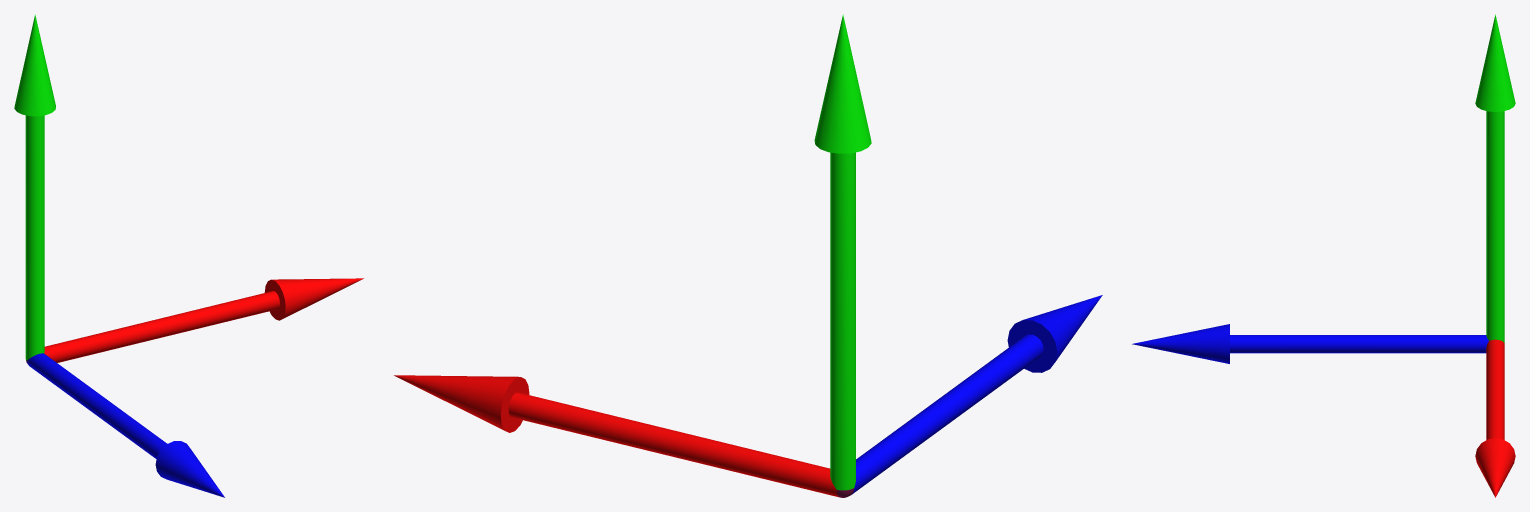
Rendered from axes.glb.
3 views of the same model, side by side, from view 1: azimuth 30°, elevation 25°; view 2: azimuth 150°, elevation 25°; view 3: azimuth 270°, elevation 25° (orthographic). The views are drawn at different scales.
Visible parts, largest first — view 1: hires.001; view 2: hires.001; view 3: hires.001.
Boxes of the visible parts, x1,y1,x2,y2 form: hires.001: (14, 14, 363, 497); hires.001: (394, 14, 1102, 497); hires.001: (1132, 14, 1515, 497).
Bounding box in the file's own units: 1.06 × 1.06 × 1.06.
